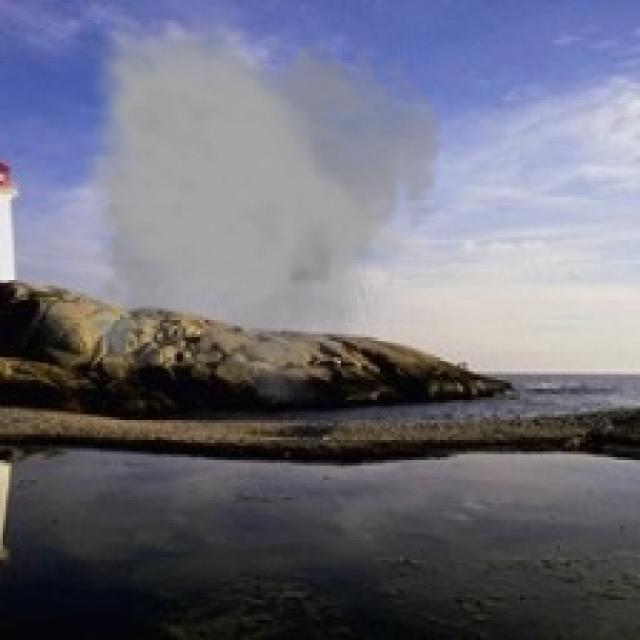smoke: (77, 6, 446, 403)
